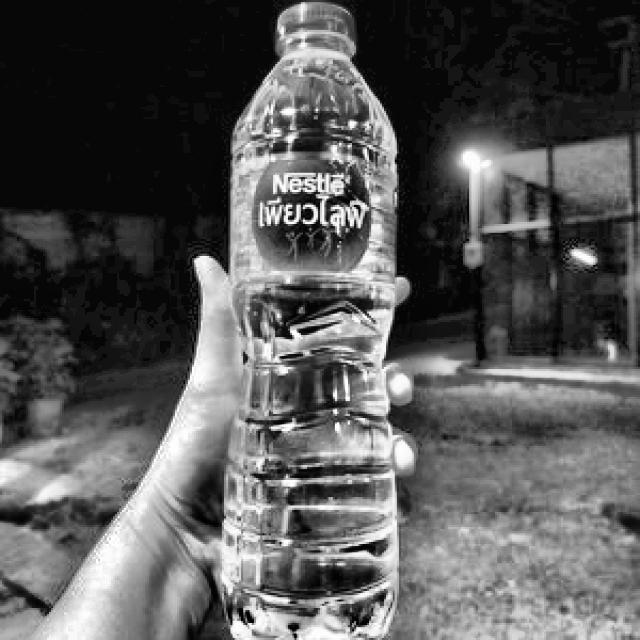waterbottle: (211, 0, 408, 640)
